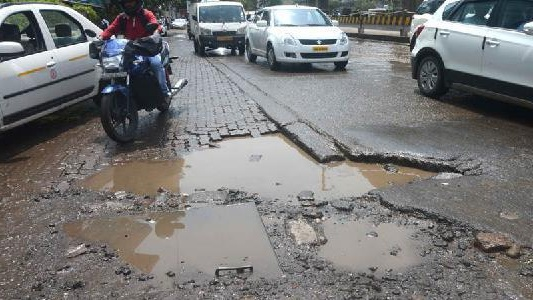pothole: (76, 122, 471, 197), (57, 195, 286, 282), (304, 195, 453, 274)
